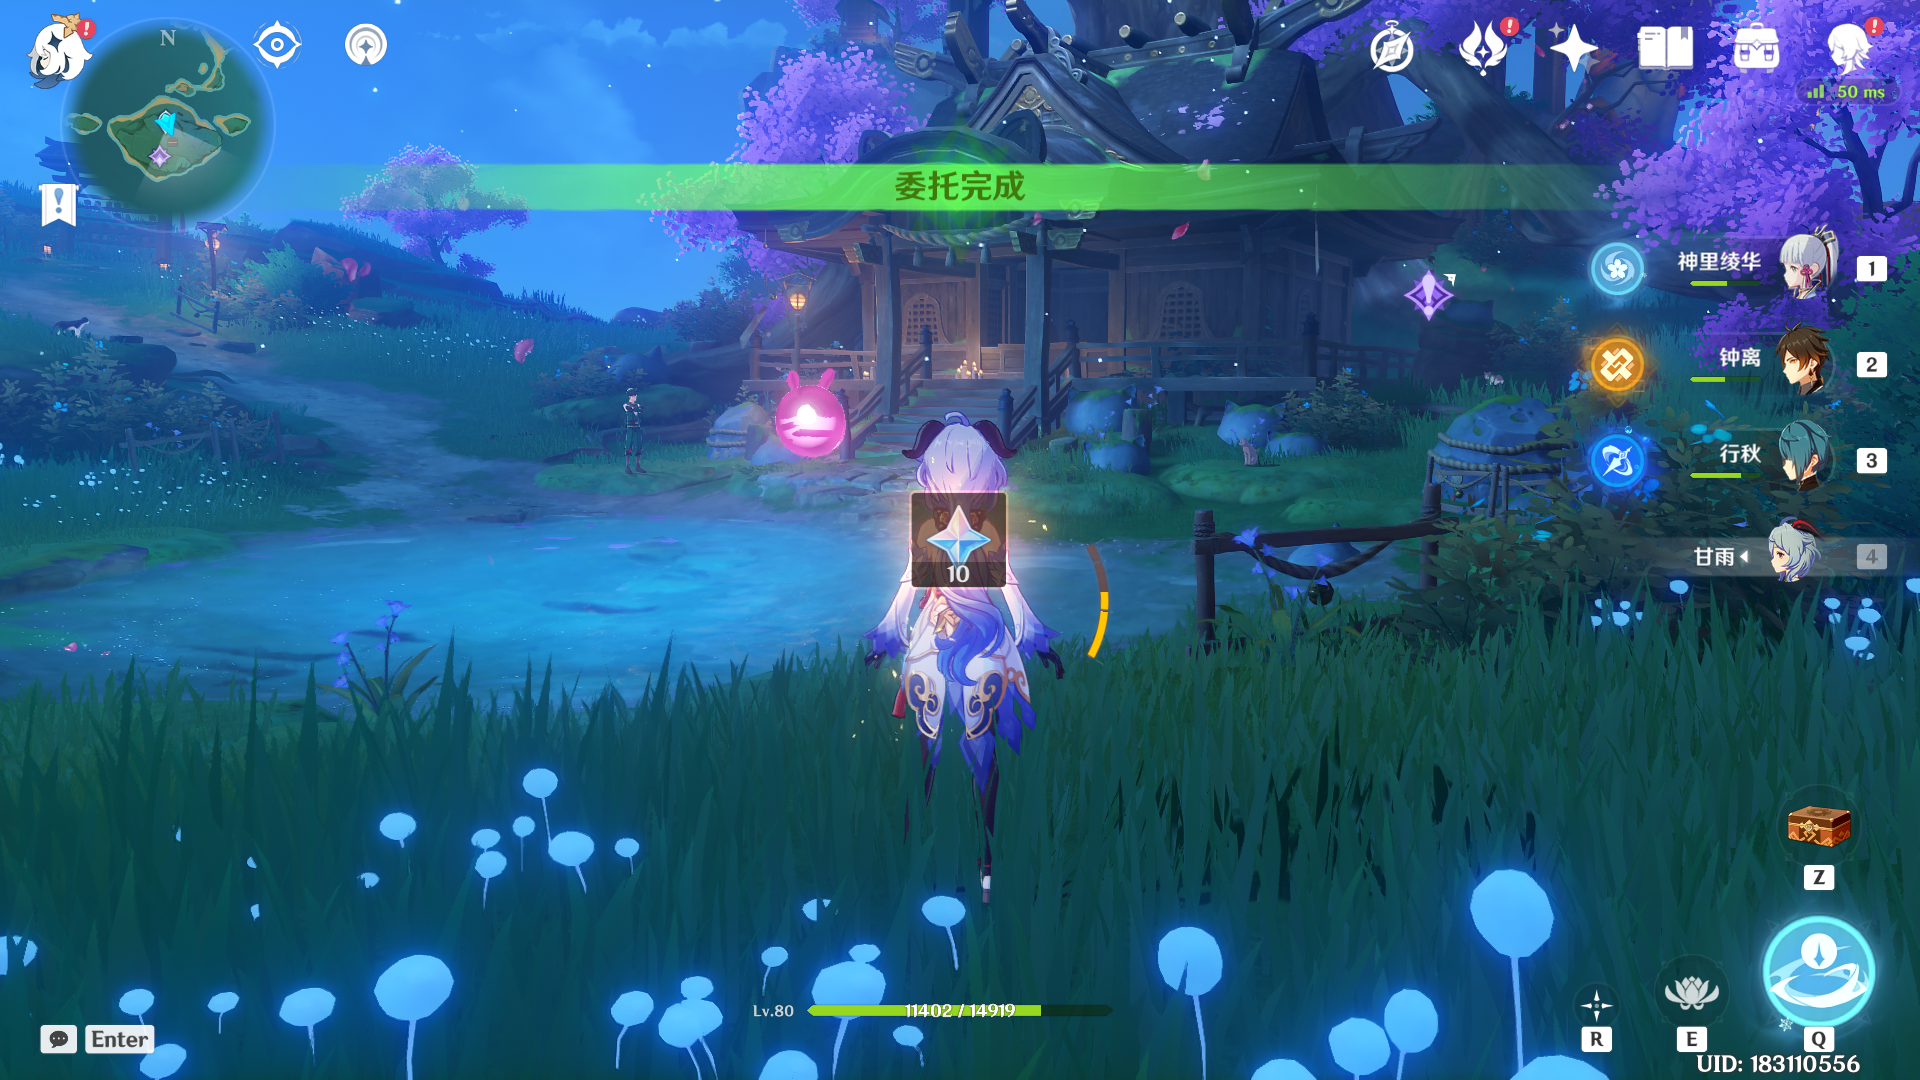character: (829, 385, 1091, 914)
